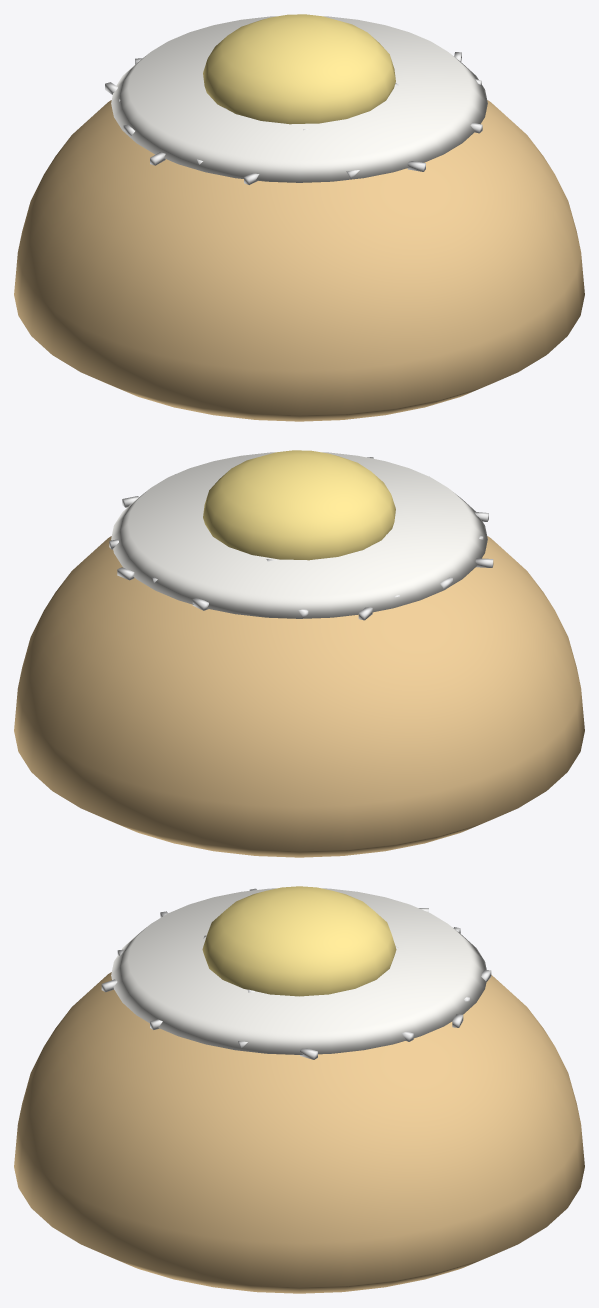
The model's file is SM_Skolebolle.glb.
3 renders of one model, top to bottom at view 1: azimuth 30°, elevation 25°; view 2: azimuth 150°, elevation 25°; view 3: azimuth 270°, elevation 25°, orthographic.
Parts seen in each view (by area): view 1: SM_Skolebolle; view 2: SM_Skolebolle; view 3: SM_Skolebolle.
Boxes of the visible parts, x1=… form: SM_Skolebolle: x1=14, y1=14, x2=584, y2=421; SM_Skolebolle: x1=14, y1=450, x2=584, y2=857; SM_Skolebolle: x1=14, y1=886, x2=584, y2=1293.
Size of the model in its own units: 0.1 by 0.0554 by 0.1.
